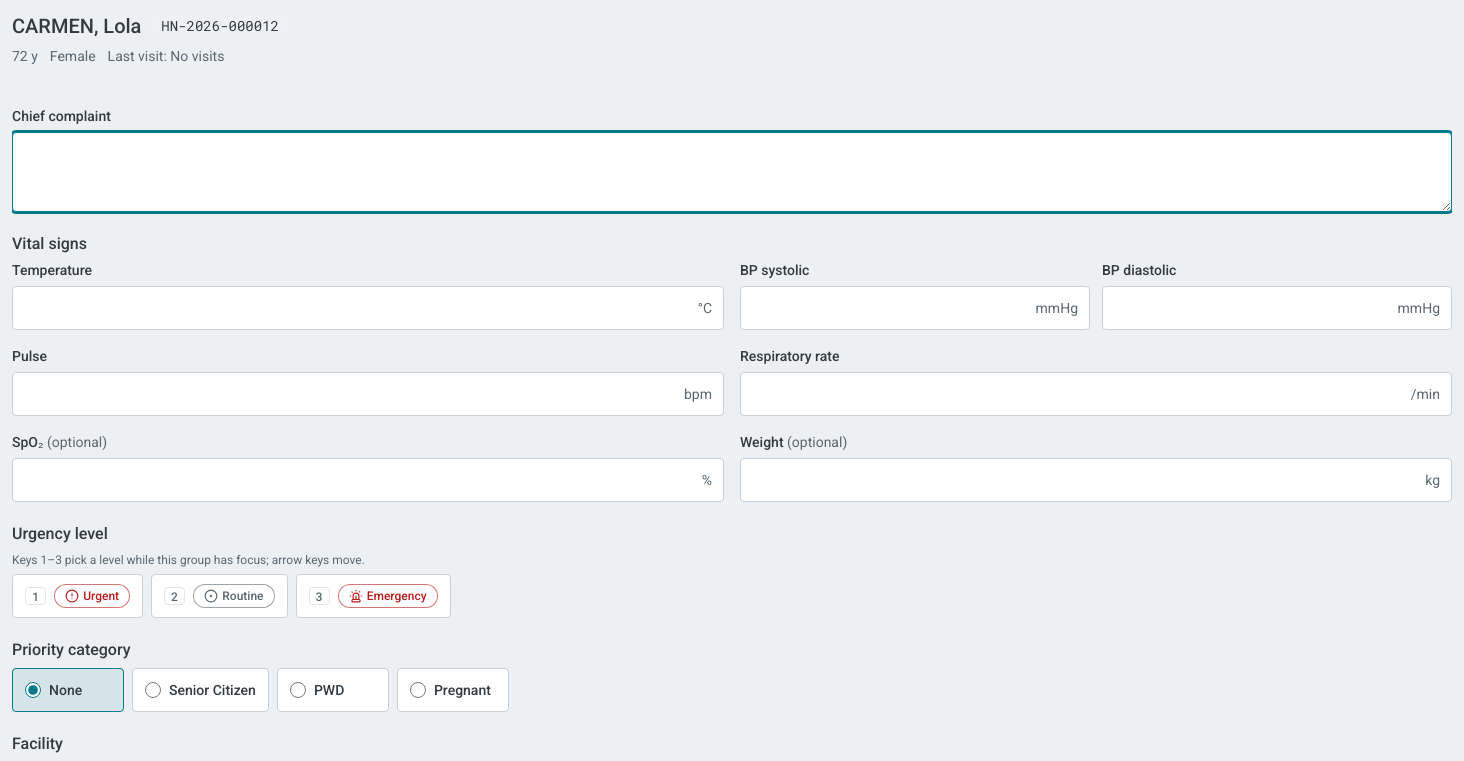
Scenario: TriageForm › shows diastolic ≥ systolic as an error on diastolic
Type "120" into the field labelled "BP systolic" at (915, 308), box [740,286,1090,330]
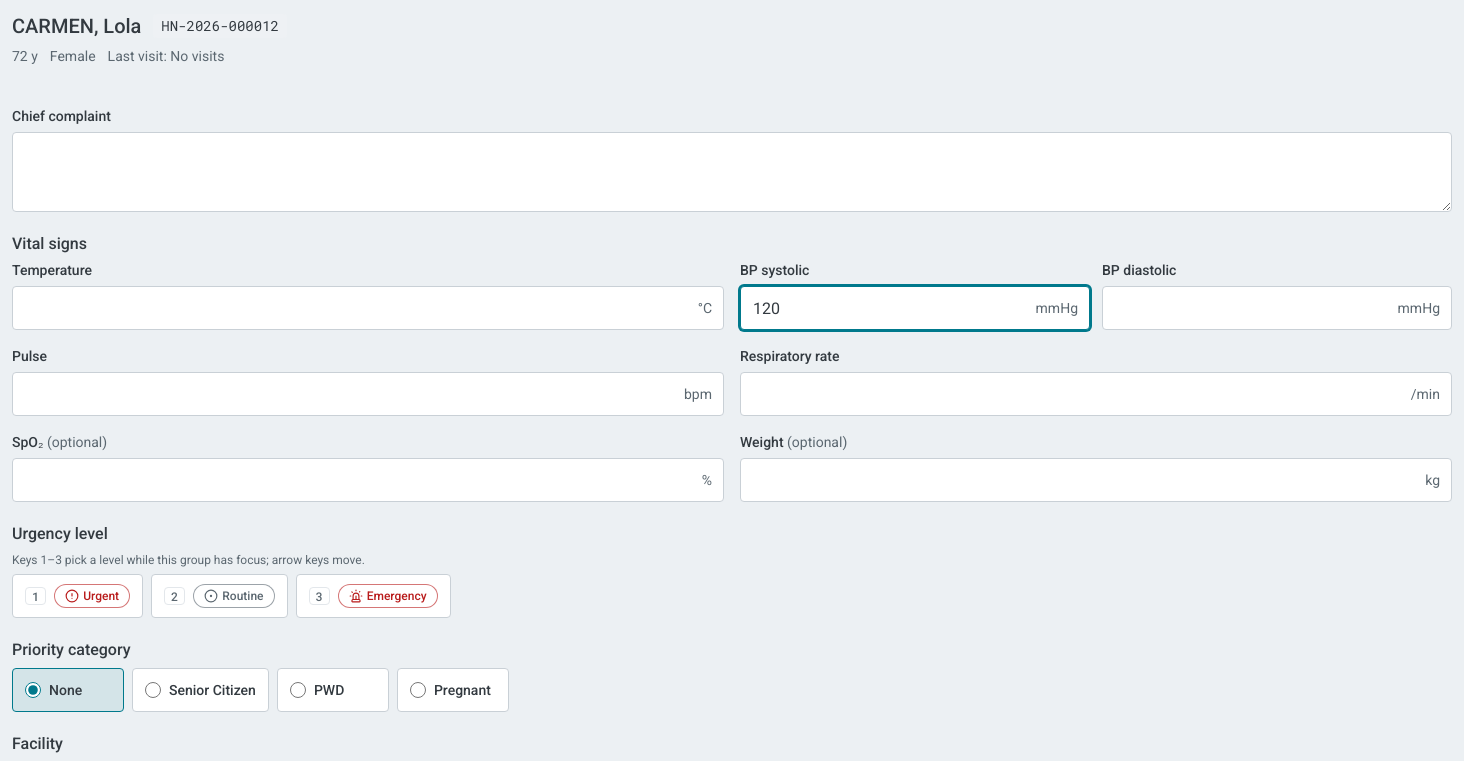
Type "130" into the field labelled "BP diastolic" at (1277, 308), box [1102,286,1452,330]
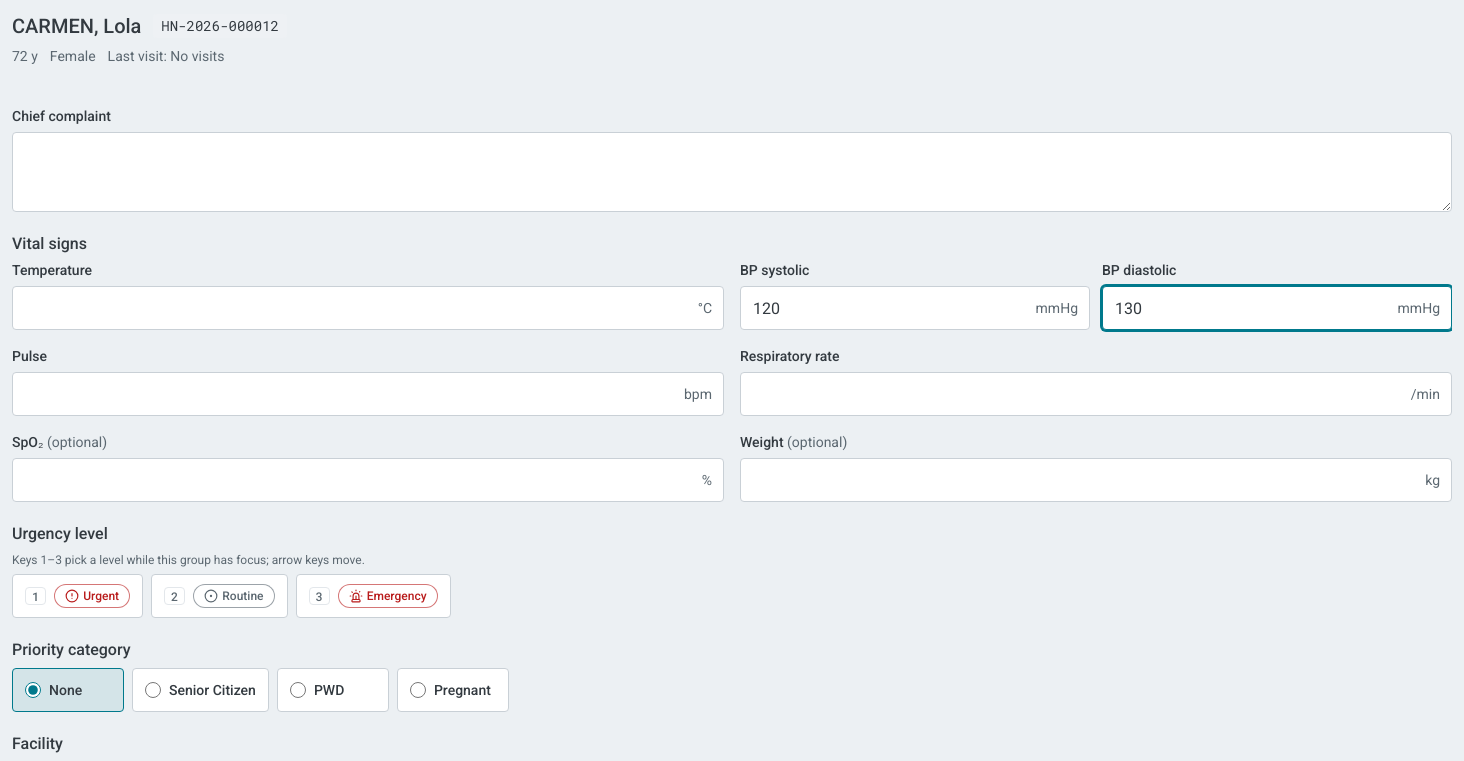
Press Tab
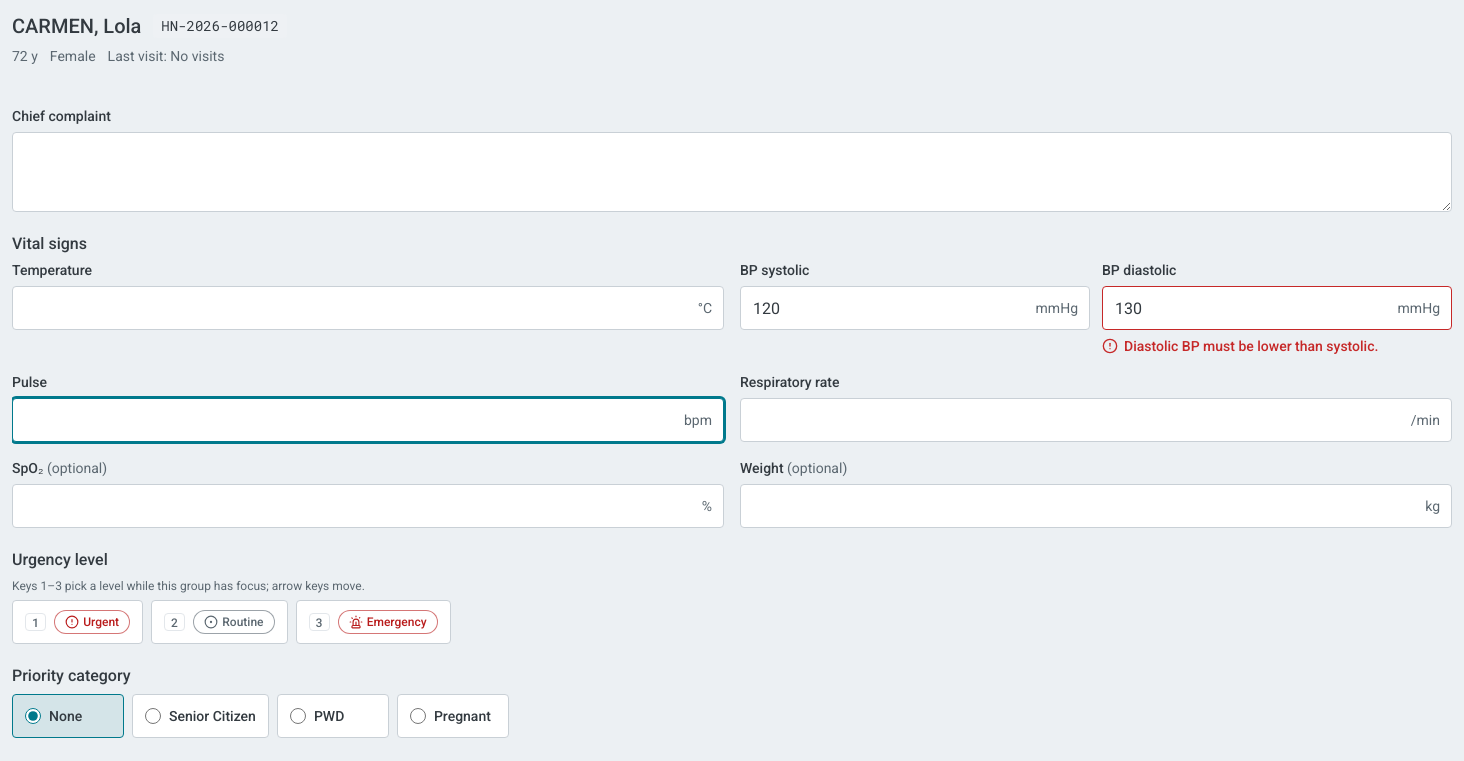
Check: the text "Diastolic BP must be lower than systolic." is shown, box [1102,338,1378,354]
